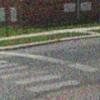crosswalks: (0, 57, 85, 95)
